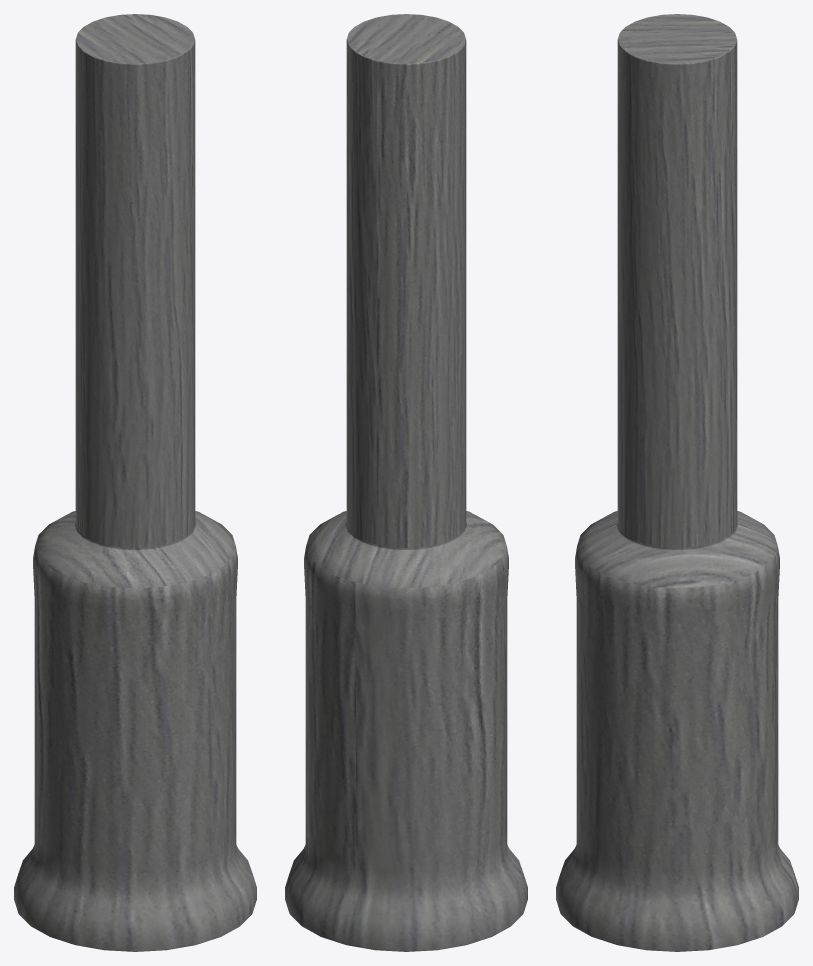
File: ColumnBlock001.obj
3 renders of one model, left to right at view 1: azimuth 30°, elevation 25°; view 2: azimuth 150°, elevation 25°; view 3: azimuth 270°, elevation 25°, orthographic.
Parts seen in each view (by area): view 1: pCylinder1; view 2: pCylinder1; view 3: pCylinder1.
Part boxes in pixels (x1,y1,x2,y2): pCylinder1: (14, 14, 256, 951); pCylinder1: (285, 14, 527, 951); pCylinder1: (556, 14, 798, 951).
Size of the model in its own units: 76.52 by 300 by 76.52.
2 materials, 2 textured.
